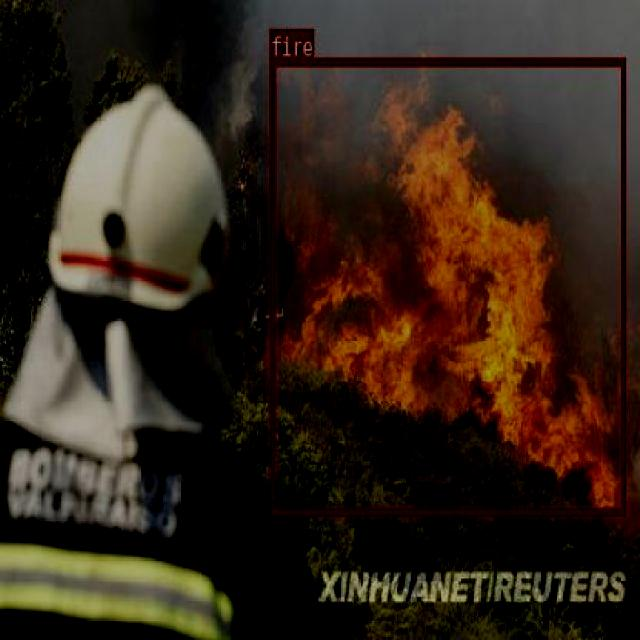fire: (270, 57, 624, 516)
